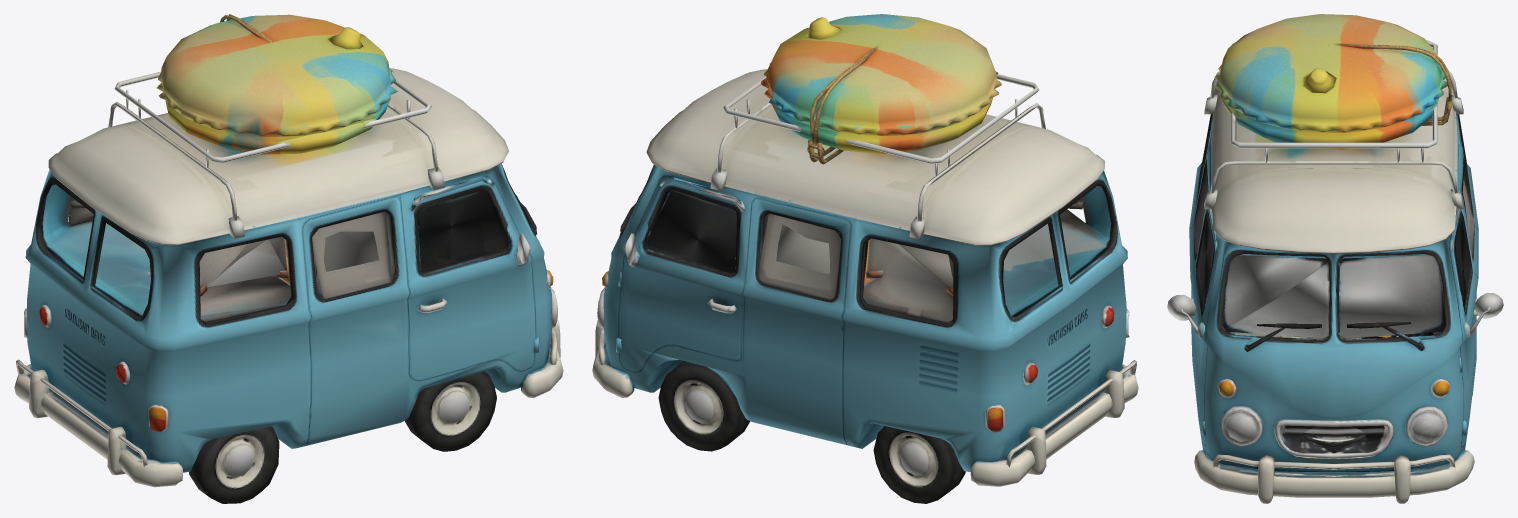
Rendered from car_find.glb.
3 views of the same model, side by side, from view 1: azimuth 30°, elevation 25°; view 2: azimuth 150°, elevation 25°; view 3: azimuth 270°, elevation 25° (orthographic). The views are drawn at different scales.
Parts seen in each view (by area): view 1: tripo_node_65bd8d32-e5aa-4614-8569-84f9eec449df; view 2: tripo_node_65bd8d32-e5aa-4614-8569-84f9eec449df; view 3: tripo_node_65bd8d32-e5aa-4614-8569-84f9eec449df.
Part boxes in pixels (x1,y1,x2,y2): tripo_node_65bd8d32-e5aa-4614-8569-84f9eec449df: (14, 14, 563, 503); tripo_node_65bd8d32-e5aa-4614-8569-84f9eec449df: (592, 14, 1138, 503); tripo_node_65bd8d32-e5aa-4614-8569-84f9eec449df: (1167, 14, 1503, 503).
Bounding box in the file's own units: 0.998 × 0.8262 × 0.6582.
1 material, 1 textured.
